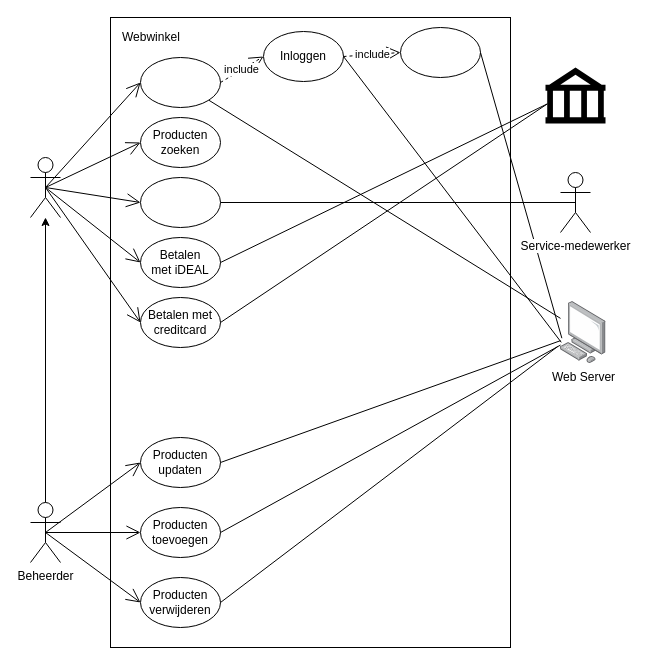
The diagram is 647 pixels wide and 665 high, and some of its shapes have lost their labels. Each missing label, with the centre of its shape:
"Account aanmaken" goes at (440,52).
"Bank" goes at (575,95).
"Koper" goes at (45,187).
"Producten bestellen" goes at (180,82).
"Vragen stellen" goes at (180,202).
